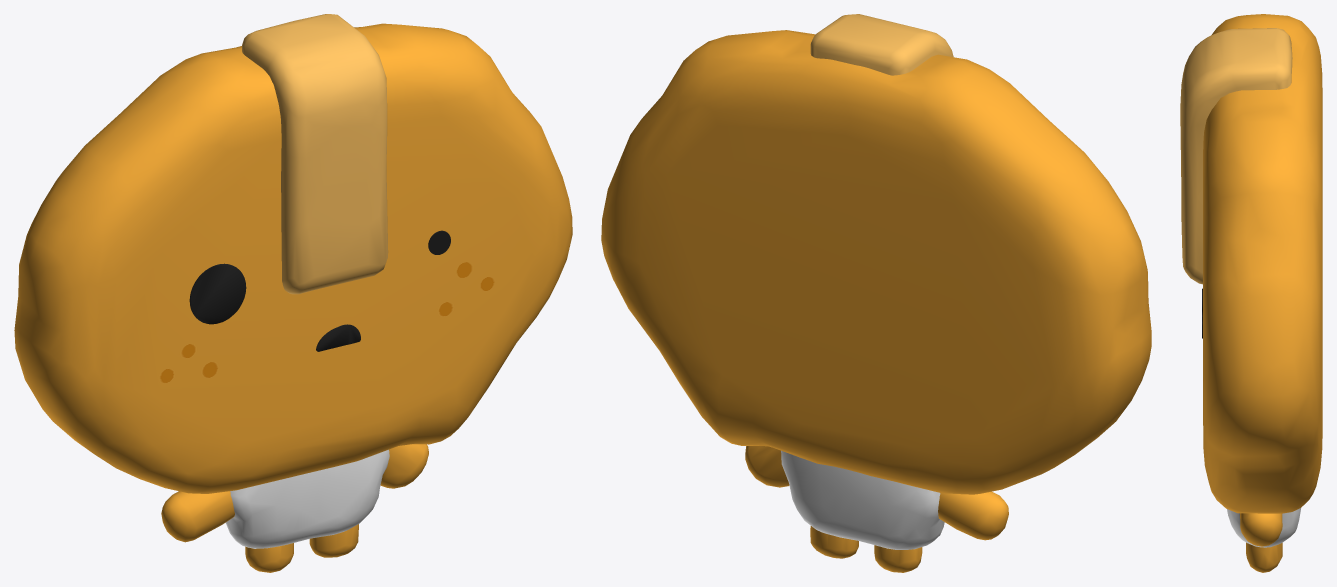
3 renders of one model, left to right at view 1: azimuth 30°, elevation 25°; view 2: azimuth 150°, elevation 25°; view 3: azimuth 270°, elevation 25°, orthographic. The views are drawn at different scales.
Visible parts, largest first — view 1: 지떼링_lowpoly_color; view 2: 지떼링_lowpoly_color; view 3: 지떼링_lowpoly_color.
Boxes of the visible parts, x1=… form: 지떼링_lowpoly_color: x1=14, y1=14, x2=572, y2=572; 지떼링_lowpoly_color: x1=601, y1=14, x2=1151, y2=572; 지떼링_lowpoly_color: x1=1180, y1=14, x2=1322, y2=572.
Bounding box in the file's own units: 285 × 273 × 69.58.
Materials: 5 (1 with a texture image).
